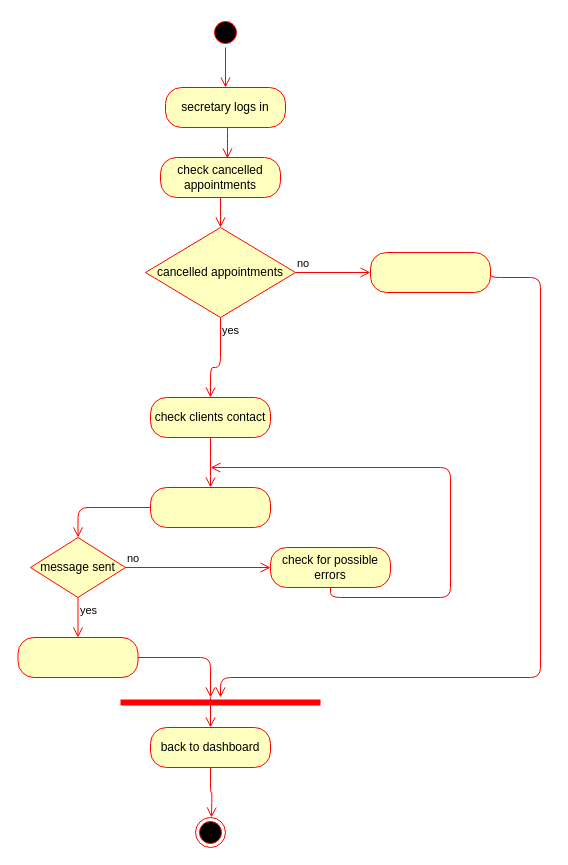
Image size: 568x865. Some labels were removed from this diagram. The centre of each missing label's shape, as x and y in pixels:
"client contacted successfully" goes at point 77,657.
"no need to send message" goes at point 430,272.
"send message/email" goes at point 210,507.
